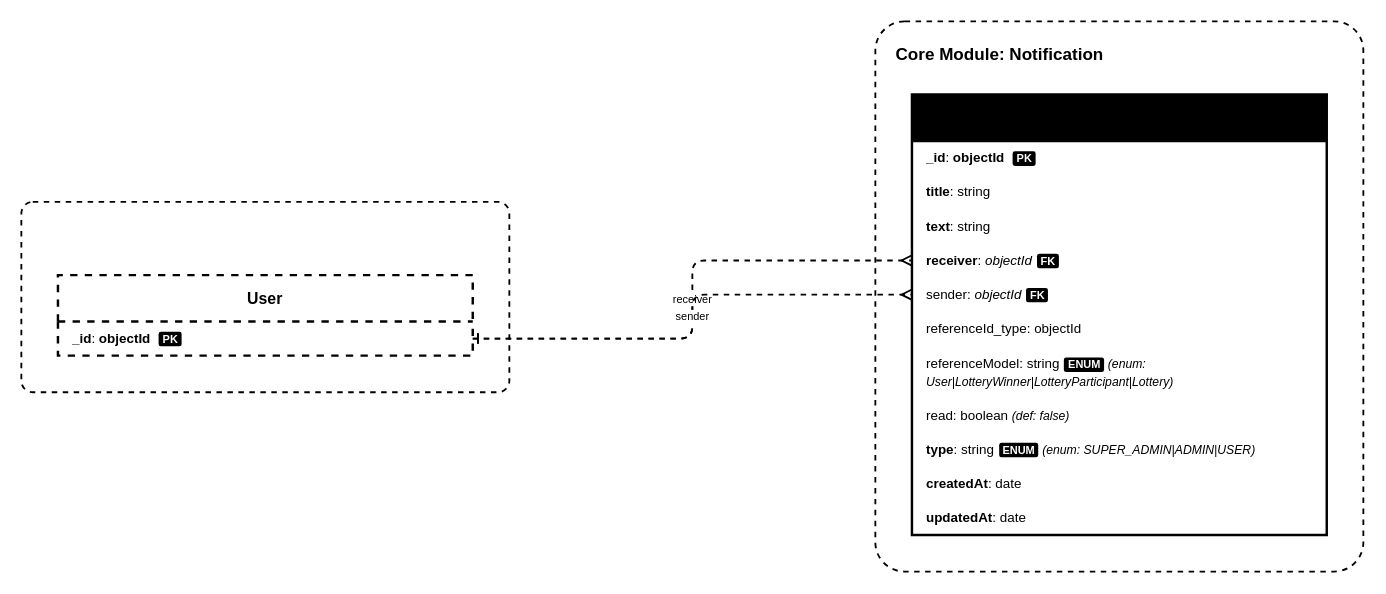
This 1386x594 diagram has some shape labels left out. Each missing label, with the box of its shape:
Notification: (910, 93, 1327, 536)
Parent Lookups / External Dependencies: (20, 200, 510, 393)
